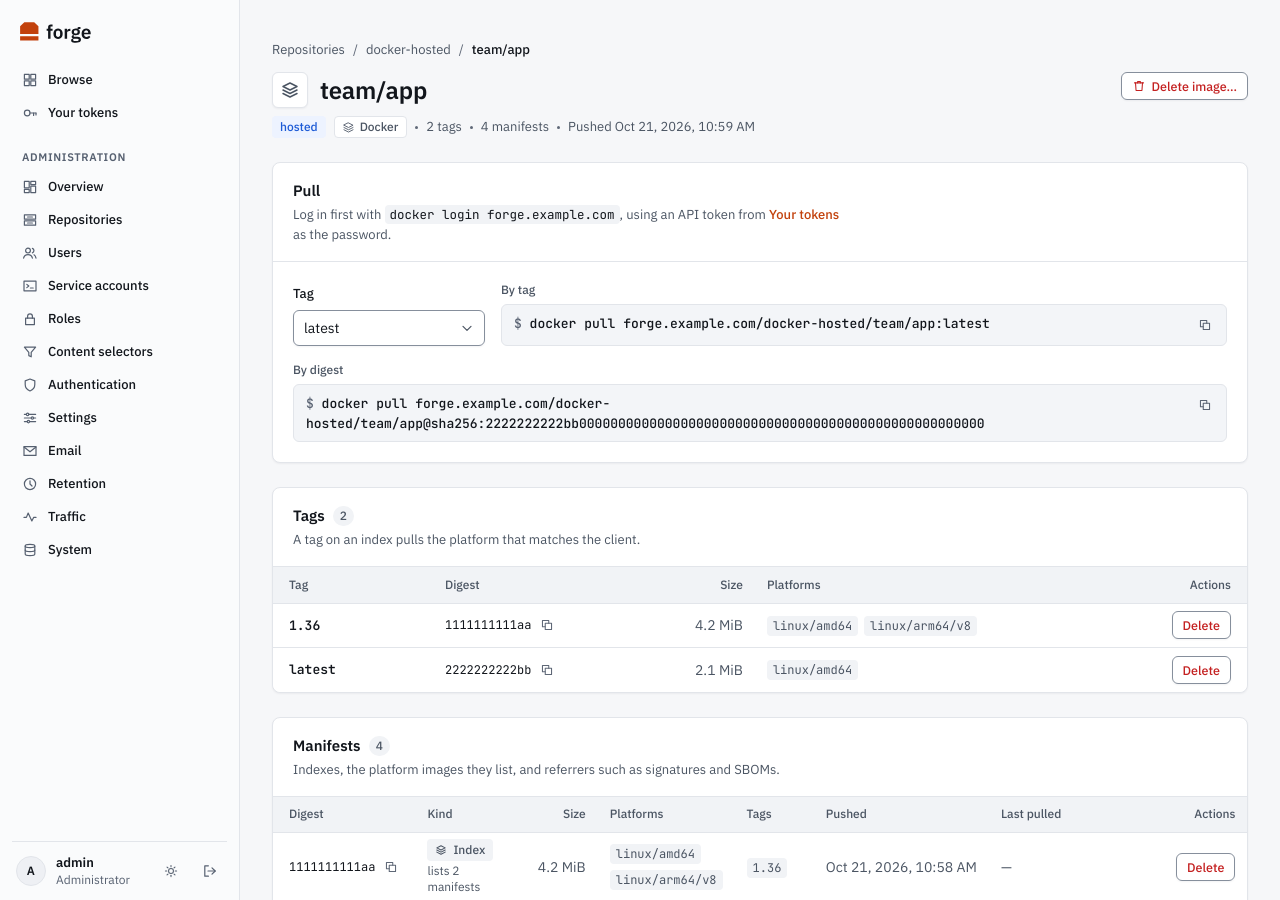
Test: ImageDetail › deleting (administrators) › deletes an index with what only it keeps, saying so first
The image size is (1280, 900).
Click the button with aria-label "Delete manifest 1111111111aa".
click(1206, 867)  # box [1176, 853, 1235, 881]
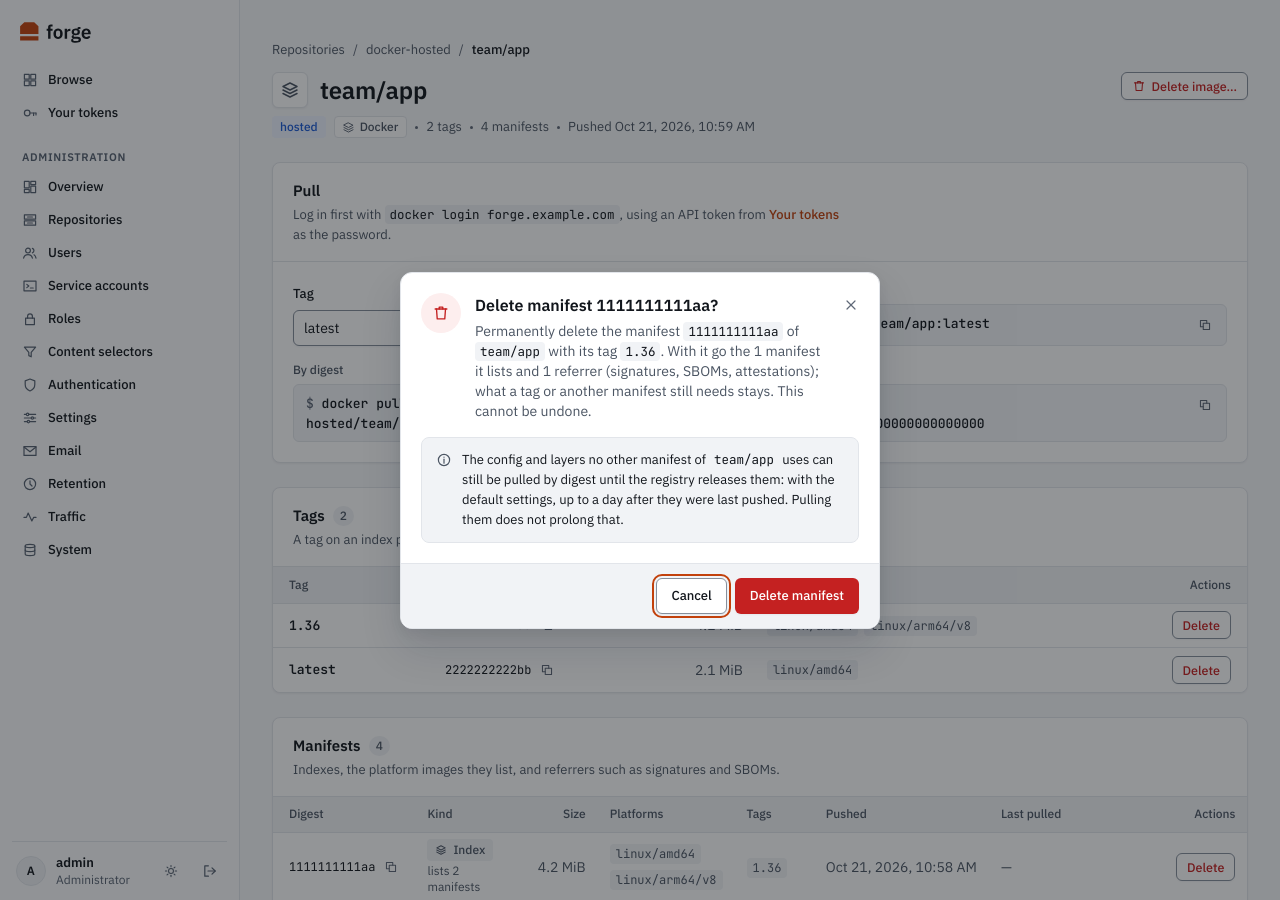
Expected: the dialog shows "Delete manifest 1111111111aa?", [475, 294, 718, 314]
Expected: the button "Delete manifest" is enabled
Expected: the dialog shows "with its tag 1.36", [400, 272, 880, 628]
Click the button "Delete manifest".
click(797, 596)  # box [735, 578, 859, 614]
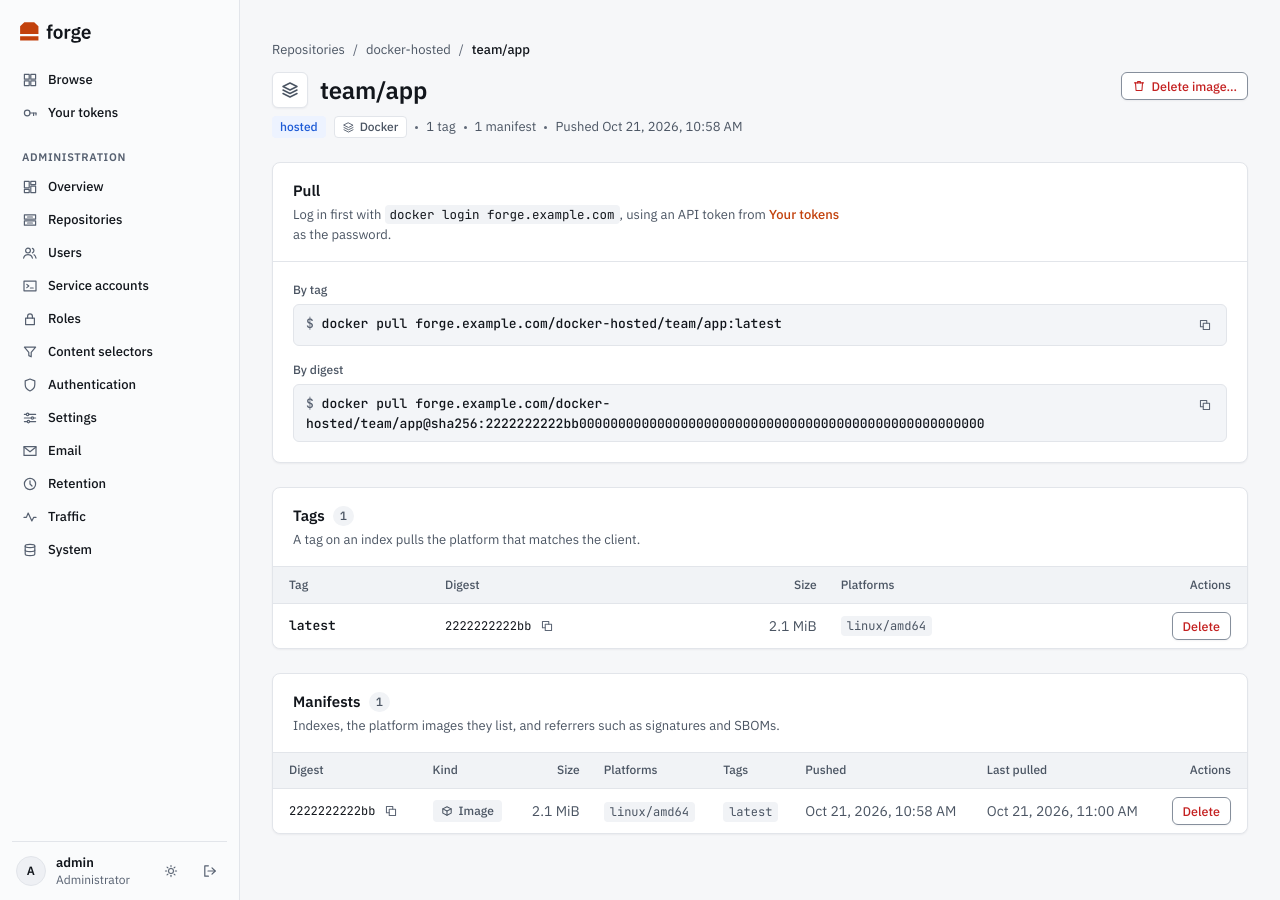
Expected: the button with aria-label "Delete manifest 2222222222bb" is shown, [1172, 797, 1231, 825]
Expected: the heading "Delete manifest 1111111111aa" is gone
